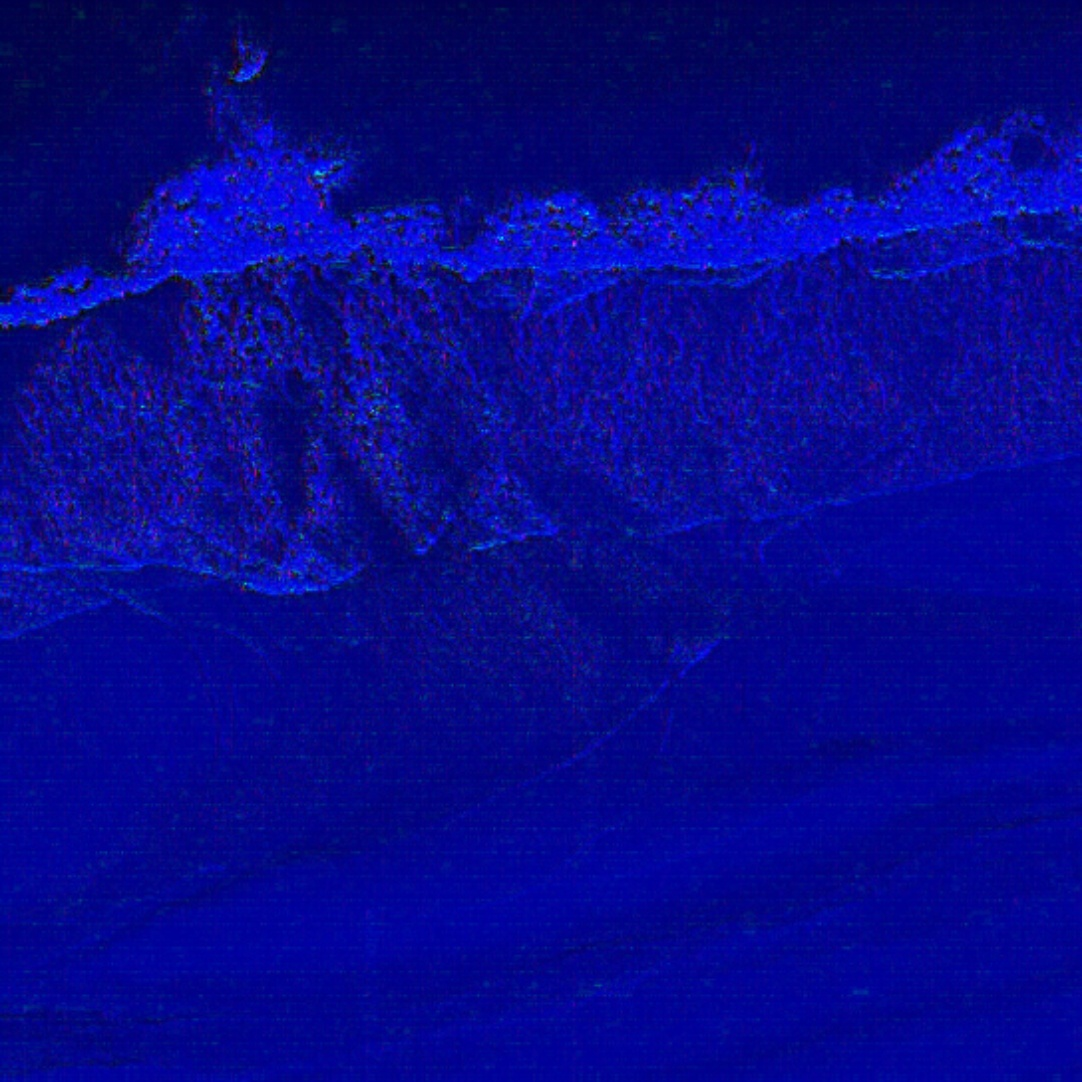rip_current: (112, 247, 432, 573)
